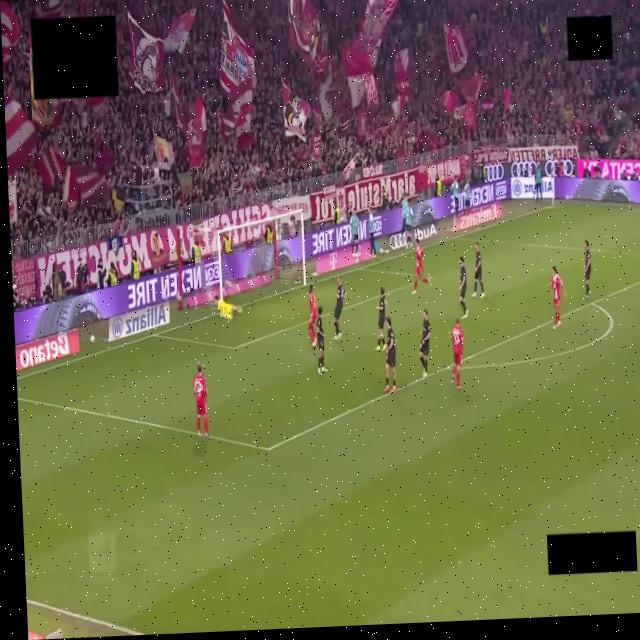player: (193, 365, 208, 439), (548, 266, 565, 329), (412, 238, 430, 293), (384, 317, 396, 392), (451, 318, 463, 388), (315, 306, 326, 375), (333, 277, 345, 340), (419, 310, 430, 377), (375, 287, 386, 351), (471, 243, 483, 298), (215, 295, 241, 320), (308, 285, 316, 347), (459, 257, 466, 319), (584, 239, 591, 300), (638, 245, 640, 307)
